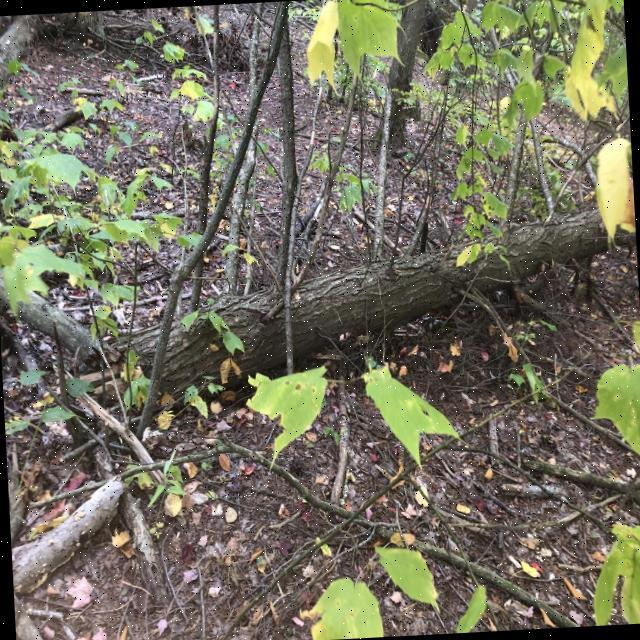fallen_object: (81, 188, 640, 429)
